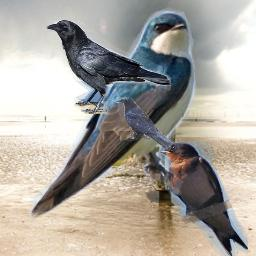Crow: (46, 20, 171, 114), (116, 97, 173, 151)
Swallow: (23, 4, 203, 221), (159, 142, 248, 256)
